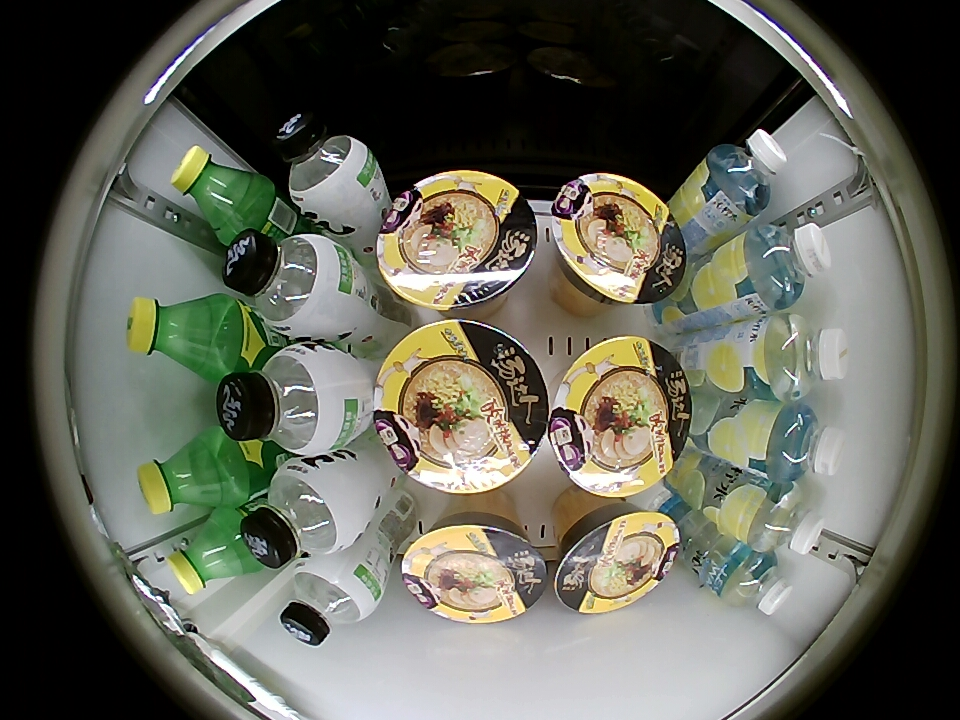qinningshui: (741, 222, 832, 309), (759, 314, 851, 400), (704, 129, 788, 216), (762, 402, 846, 481), (746, 481, 824, 555), (718, 550, 793, 615)
tangdaren2: (374, 319, 549, 494), (548, 335, 694, 498), (376, 170, 539, 313), (550, 172, 687, 307), (401, 515, 549, 624), (552, 504, 682, 614)
xuebi-b: (126, 293, 224, 379), (171, 145, 260, 235), (137, 434, 233, 516), (168, 514, 251, 595)
yuanqishui: (215, 343, 347, 454), (239, 457, 366, 569), (223, 231, 350, 340), (273, 110, 378, 220), (280, 555, 380, 647)
